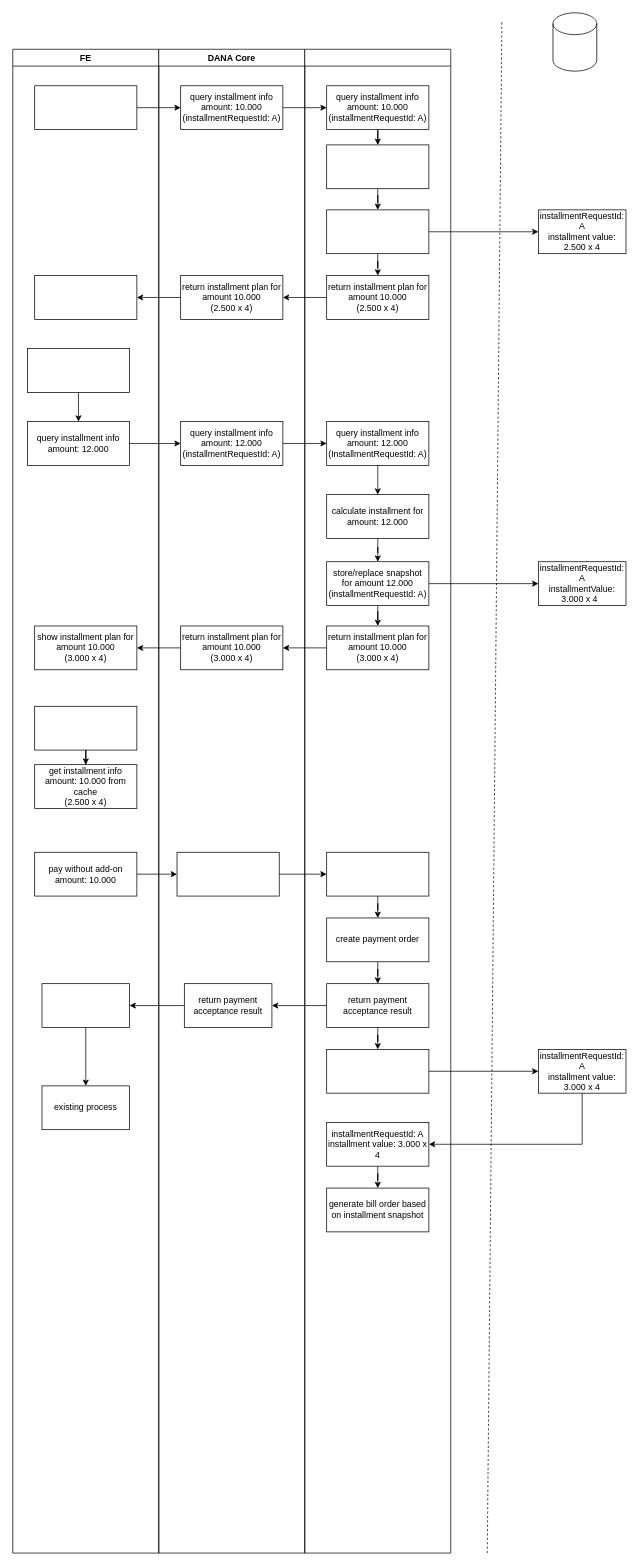
The diagram is 639 pixels wide and 1567 high, and some of its shapes have lost their labels. Here are the shapes that lost their labels. From the top down, the box of each, then its label:
(552, 12, 597, 71): bill_installment_snapshot
(34, 85, 137, 130): query installment info amount: 10.000
(326, 144, 429, 189): calculate installment for amount: 10.000 (2.500 x 4)
(326, 209, 429, 254): store snapshot for amount 10.000 with installmentRequestId A
(34, 275, 137, 319): show installment plan for amount 10.000 (2.500 x 4)
(27, 348, 130, 392): choose add-on 2.000
(34, 706, 137, 750): uncheck add-on
(304, 49, 451, 1553): DANA LMS
(176, 852, 279, 896): pay without add-on amount: 10.000 (installmentRequestId: A)
(326, 852, 429, 896): payment apply with amount 10.000 (installmentRequestId: A)
(41, 983, 130, 1027): query payment result
(326, 1049, 429, 1093): query installmentSnapshot with installmentRequestId: A
